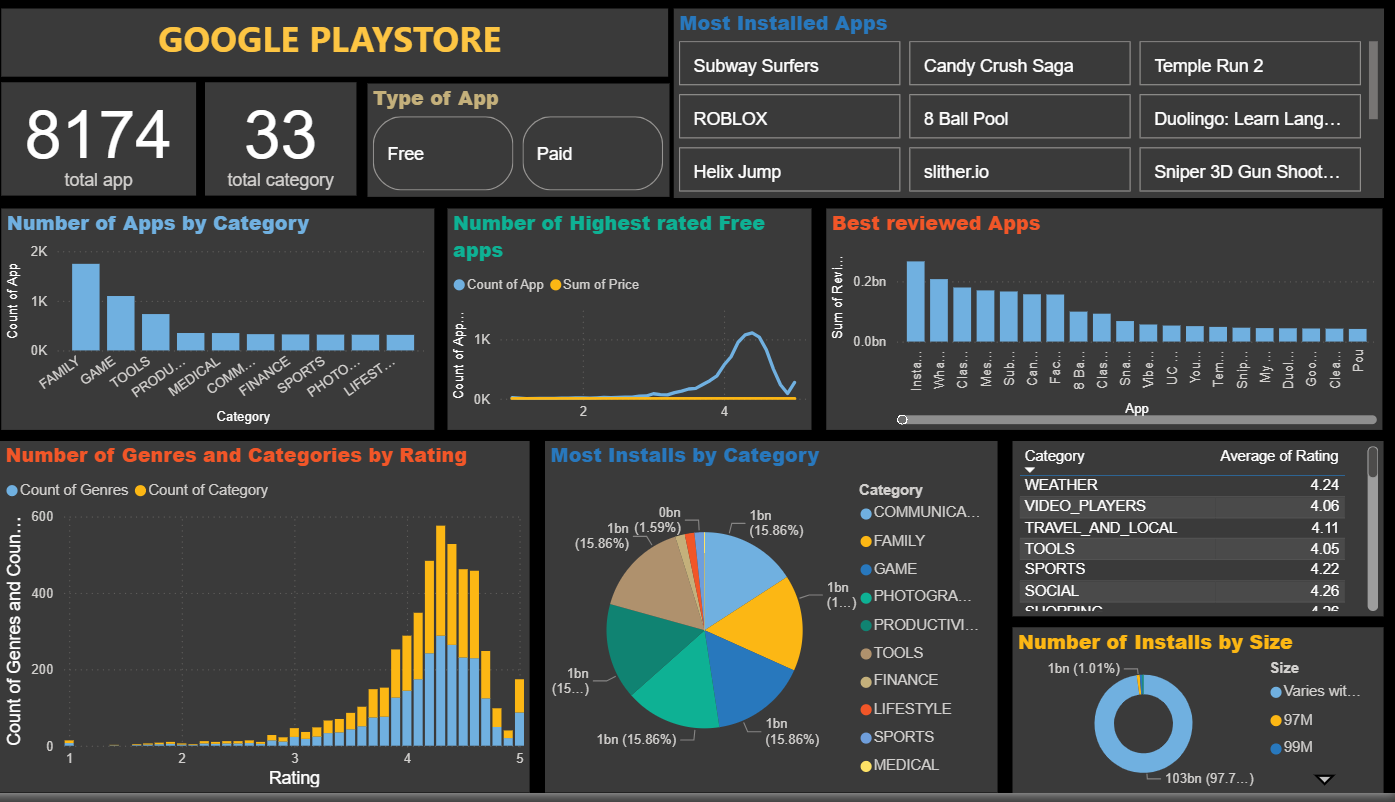

Layout of this report page (visuals, bound fields, positions):
{"tool":"powerbi","page":{"name":"Page 1","canvas":[1280,720],"ordinal":0},"visuals":[{"type":"card","fields":{"Values":["Google playstore4 (1).total app"]},"box":[19.2,78.5,176.2,102.3],"z":0},{"type":"card","fields":{"Values":["Google playstore4 (1).total category"]},"box":[203.1,78.5,136.9,102.3],"z":1000},{"type":"clusteredColumnChart","title":"Number of Apps by Category","fields":{"Y":["CountNonNull(Google playstore4 (1).App)"],"Category":["Google playstore4 (1).Category"]},"box":[18.8,192.5,391.2,200],"z":2000},{"type":"lineChart","title":"Number of Highest rated Free apps ","fields":{"Category":["Google playstore4 (1).Rating"],"Y":["CountNonNull(Google playstore4 (1).App)","Sum(Google playstore4 (1).Price)"]},"box":[422.5,192.5,328.8,200],"z":3000},{"type":"clusteredColumnChart","title":"Best reviewed Apps","fields":{"Category":["Google playstore4 (1).App"],"Y":["Sum(Google playstore4 (1).Reviews)"]},"box":[765,192.5,502.5,200],"z":4000},{"type":"tableEx","fields":{"Values":["Google playstore4 (1).Category","Avg(Google playstore4 (1).Rating)"]},"box":[932.5,402.5,335,158.8],"z":5000},{"type":"pieChart","title":"Most Installs by Category","fields":{"Category":["Google playstore4 (1).Category"],"Y":["Max(Google playstore4 (1).Installs)"]},"box":[510,402.5,408.8,317.5],"z":6000},{"type":"columnChart","title":"Number of Genres and Categories by Rating","fields":{"Category":["Google playstore4 (1).Rating"],"Y":["CountNonNull(Google playstore4 (1).Genres)","CountNonNull(Google playstore4 (1).Category)"]},"box":[18.4,402.5,478.5,317.8],"z":7000},{"type":"advancedSlicerVisual","title":"Type of App","fields":{"Values":["Google playstore4 (1).Type"]},"box":[350,78.8,272.5,102.5],"z":8000},{"type":"donutChart","title":"Number of Installs by Size","fields":{"Category":["Google playstore4 (1).Size"],"Y":["Sum(Google playstore4 (1).Installs)"]},"box":[932.5,570,335,150],"z":9000},{"type":"textbox","box":[19.6,11,602.5,61.4],"z":10000},{"type":"advancedSlicerVisual","title":"Most Installed Apps","fields":{"Values":["Google playstore4 (1).App"]},"box":[626.2,11.2,641.2,171.2],"z":11000}]}

Visuals, with their boxes in screenshot pixels (x1, y1, x2, y2), scaled from the page's 1280x720 canvas onto the 1395x802 screenshot:
card - Google playstore4 (1).total app: 21:87:213:201
card - Google playstore4 (1).total category: 221:87:371:201
"Number of Apps by Category" clusteredColumnChart: 20:214:447:437
"Number of Highest rated Free apps " lineChart: 460:214:819:437
"Best reviewed Apps" clusteredColumnChart: 834:214:1381:437
tableEx - Google playstore4 (1).Category x Avg(Google playstore4 (1).Rating): 1016:448:1381:625
"Most Installs by Category" pieChart: 556:448:1001:801
"Number of Genres and Categories by Rating" columnChart: 20:448:542:801
"Type of App" advancedSlicerVisual: 381:88:678:202
"Number of Installs by Size" donutChart: 1016:635:1381:801
textbox: 21:12:678:81
"Most Installed Apps" advancedSlicerVisual: 682:12:1381:203
